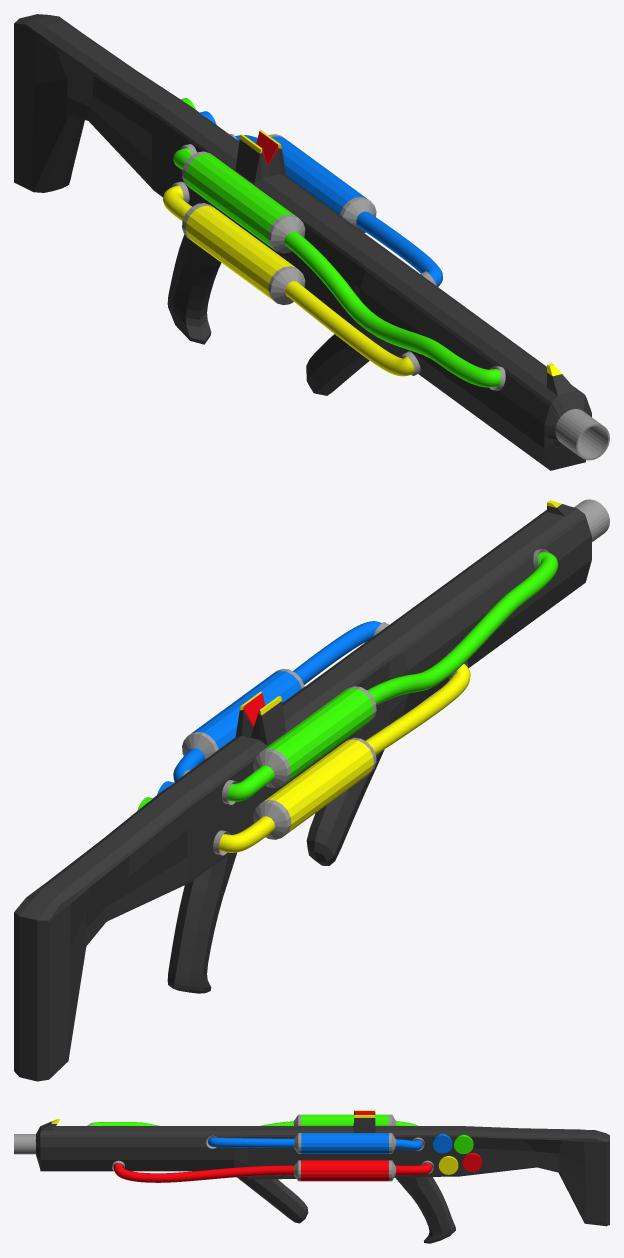
Rendered from Paintballgun.fbx.
3 views of the same model, one above another, from view 1: azimuth 30°, elevation 25°; view 2: azimuth 150°, elevation 25°; view 3: azimuth 270°, elevation 25° (orthographic). The views are drawn at different scales.
Visible parts, largest first — view 1: Body, TopRightPaintChamber, BottomLeftPainChamber, TopRightFrontPipe, Grip, TopLeftPaintChamber, BottomRightFrontPipe, FrontGrip, Barrel, RearSight, TopLeftFrontPipe, BottomRightRearPipe; view 2: Body, TopRightPaintChamber, BottomLeftPainChamber, Grip, TopRightFrontPipe, TopLeftPaintChamber, FrontGrip, BottomRightFrontPipe, RearSight, TopLeftFrontPipe, BottomRightRearPipe, TopRightRearPipe (+1 smaller); view 3: Body, BottomLeftPaintChamber, TopLeftPaintChamber, Grip, BottomLeftFrontPipe, FrontGrip, TopRightPaintChamber, TopLeftFrontPipe, RearSight, Barrel, BottomLeftRearPipe, TopRightFrontPipe (+5 smaller).
Part boxes in pixels (box(x1,y1,x2,y2)): Body: box(14, 14, 591, 470); TopRightPaintChamber: box(182, 151, 305, 253); BottomLeftPainChamber: box(182, 203, 305, 304); TopRightFrontPipe: box(284, 231, 501, 387); Grip: box(167, 234, 221, 344); TopLeftPaintChamber: box(268, 134, 376, 233); BottomRightFrontPipe: box(285, 281, 414, 376); FrontGrip: box(306, 334, 380, 395); Barrel: box(555, 409, 609, 460); RearSight: box(235, 130, 286, 183); TopLeftFrontPipe: box(356, 211, 442, 286); BottomRightRearPipe: box(162, 185, 191, 221); Body: box(14, 507, 591, 1081); TopRightPaintChamber: box(253, 686, 376, 788); BottomLeftPainChamber: box(253, 737, 376, 839); Grip: box(167, 852, 237, 993); TopRightFrontPipe: box(367, 552, 558, 705); TopLeftPaintChamber: box(182, 668, 304, 759); FrontGrip: box(306, 749, 384, 865); BottomRightFrontPipe: box(365, 664, 470, 754); RearSight: box(235, 691, 286, 745); TopLeftFrontPipe: box(293, 621, 381, 684); BottomRightRearPipe: box(219, 816, 274, 852); TopRightRearPipe: box(227, 765, 274, 801); Body: box(35, 1126, 609, 1226); BottomLeftPaintChamber: box(293, 1160, 395, 1181); TopLeftPaintChamber: box(294, 1133, 396, 1153); Grip: box(395, 1177, 455, 1243); BottomLeftFrontPipe: box(113, 1163, 293, 1182); FrontGrip: box(237, 1176, 308, 1223); TopRightPaintChamber: box(293, 1114, 396, 1125); TopLeftFrontPipe: box(208, 1137, 294, 1147); RearSight: box(353, 1110, 375, 1132); Barrel: box(14, 1134, 35, 1154); BottomLeftRearPipe: box(395, 1163, 432, 1175); TopRightFrontPipe: box(89, 1121, 293, 1125).
Size of the model in its own units: 330 by 734 by 3052.
